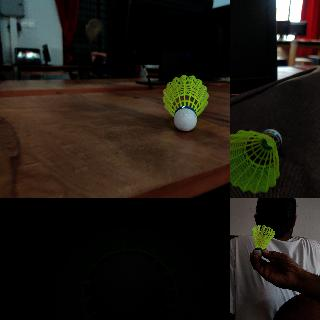shuttlecock: (54, 226, 206, 319), (230, 128, 286, 191), (162, 73, 208, 129), (251, 226, 273, 258)
